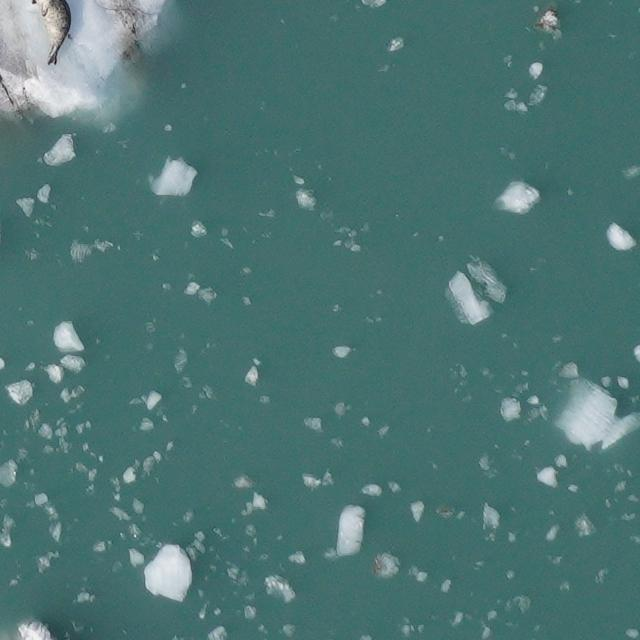seal: (27, 0, 77, 73)
